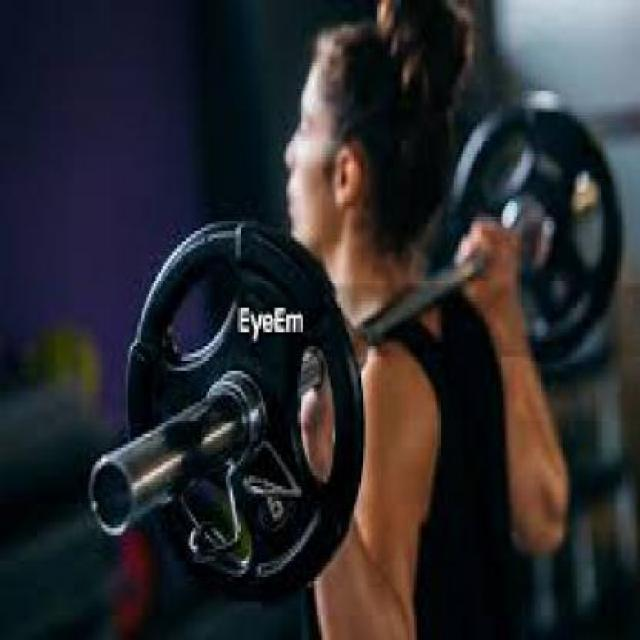Barbell: (87, 448, 138, 542)
